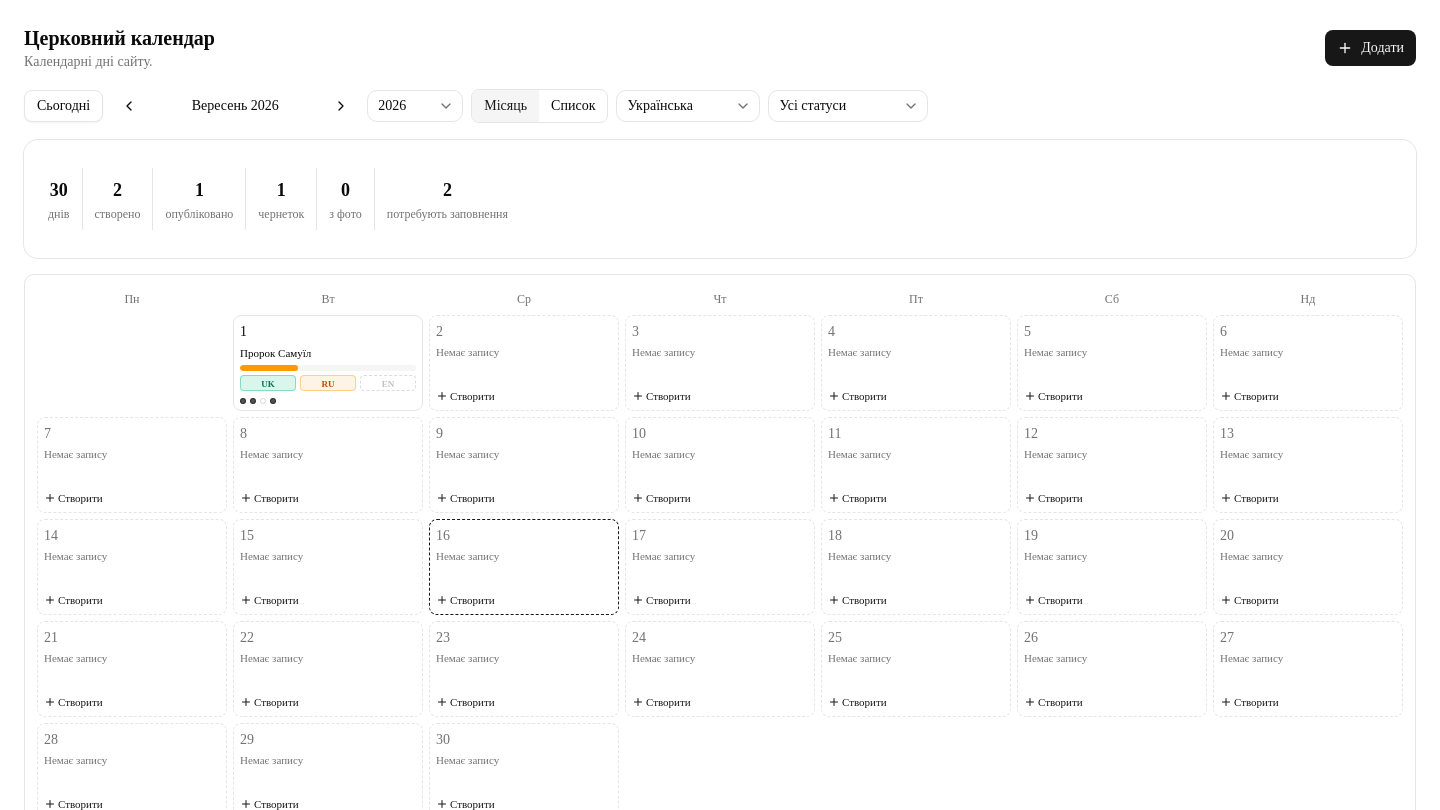
Test: CalendarListView › shows a card's RU/EN language badges even though the language filter defaults to only UK
The width and height of the screenshot is (1440, 810).
Hover over the button "ru": (328,383) [300,375,356,391]
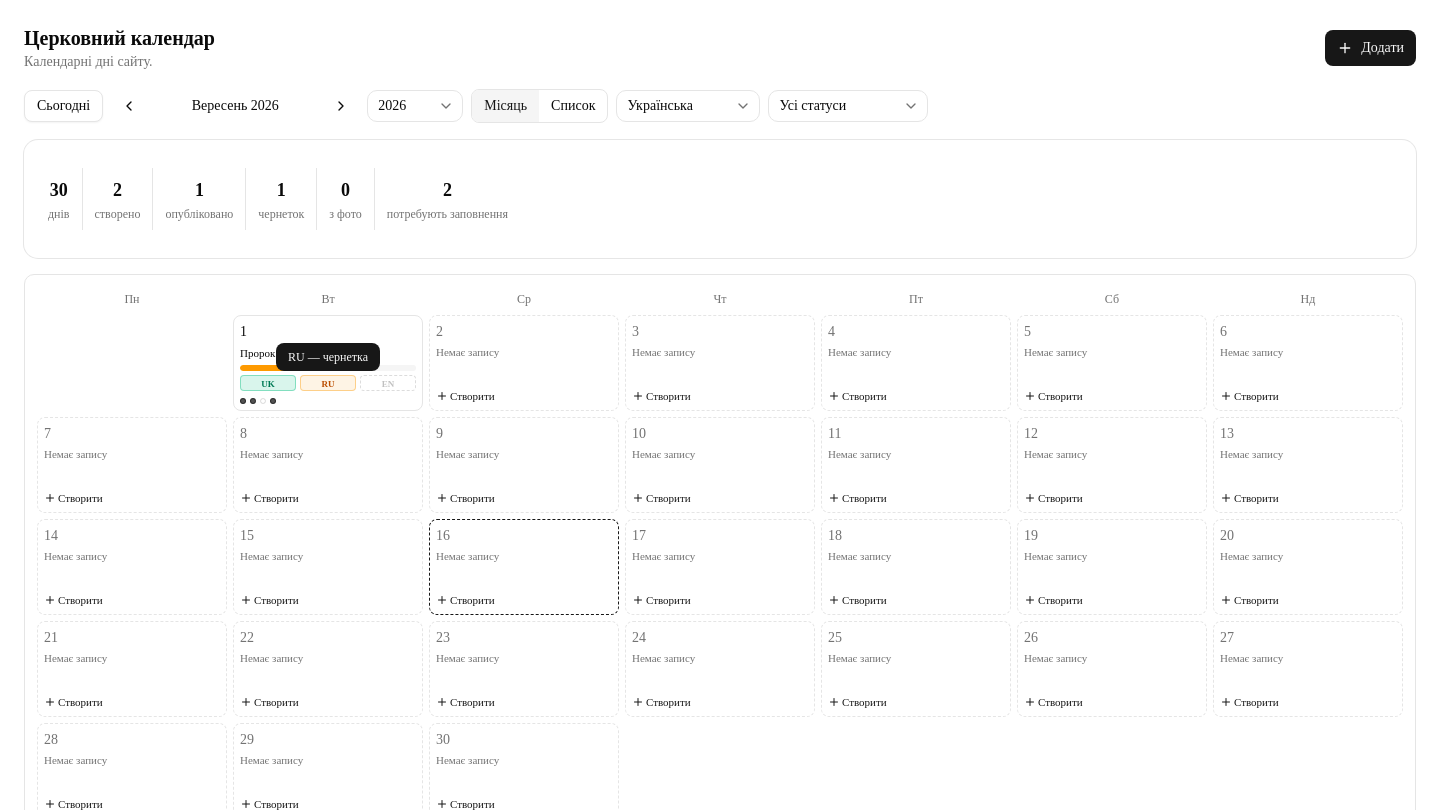
Result: the tooltip "RU — чернетка" is shown at [276,343,380,371]
Hover over the button "en": (388,383) [360,375,416,391]
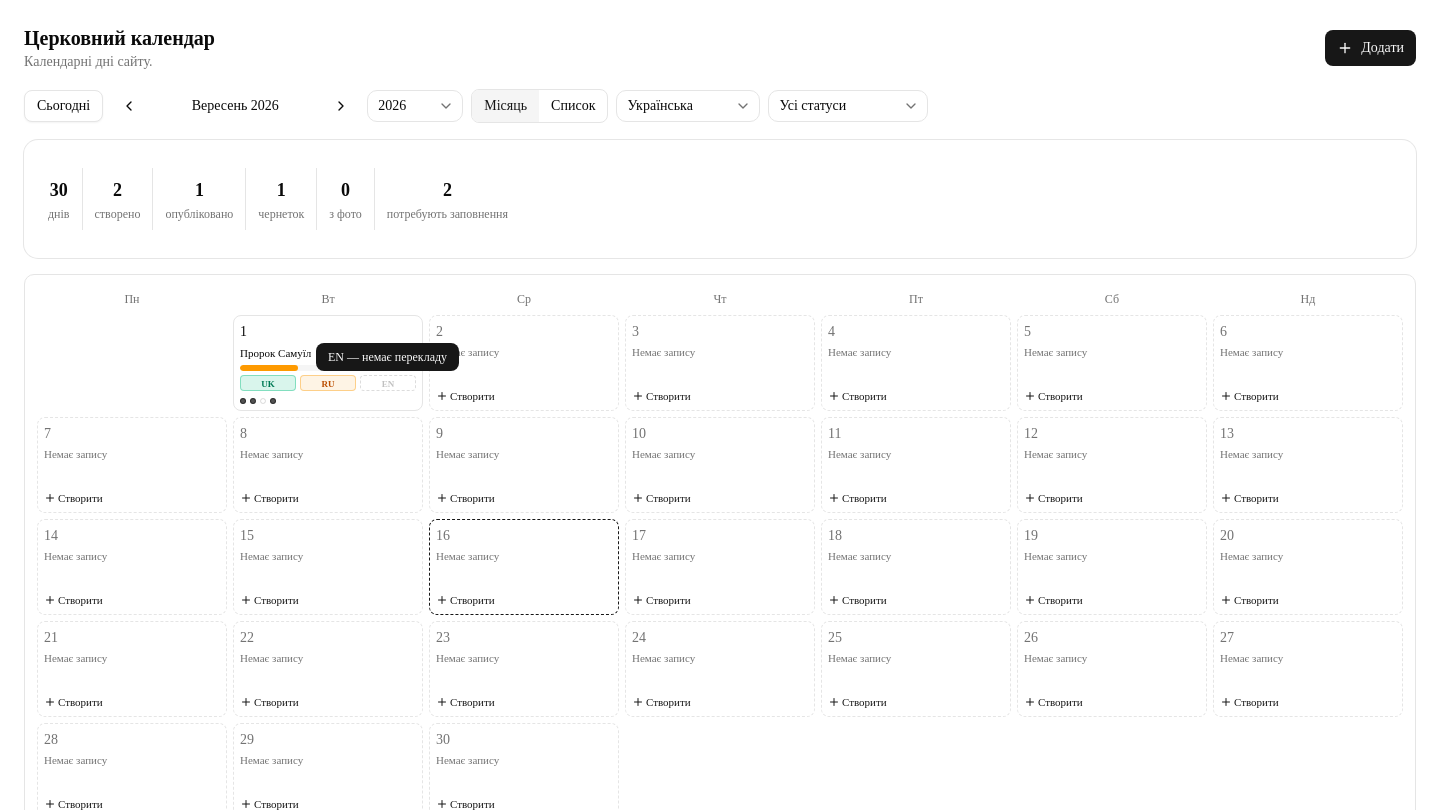
Result: the tooltip "EN — немає перекладу" is shown at [316,343,459,371]
